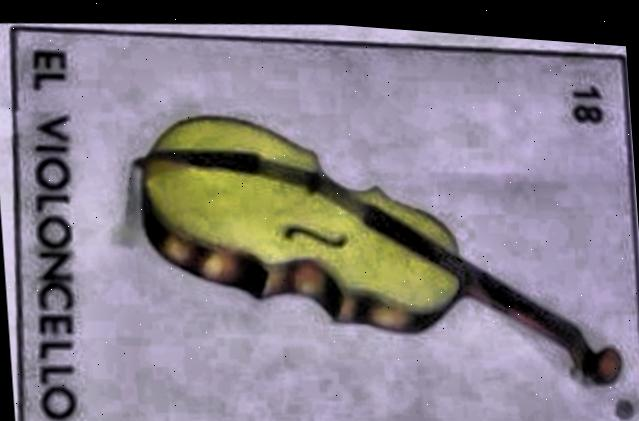El Violoncello: (4, 0, 639, 421)
